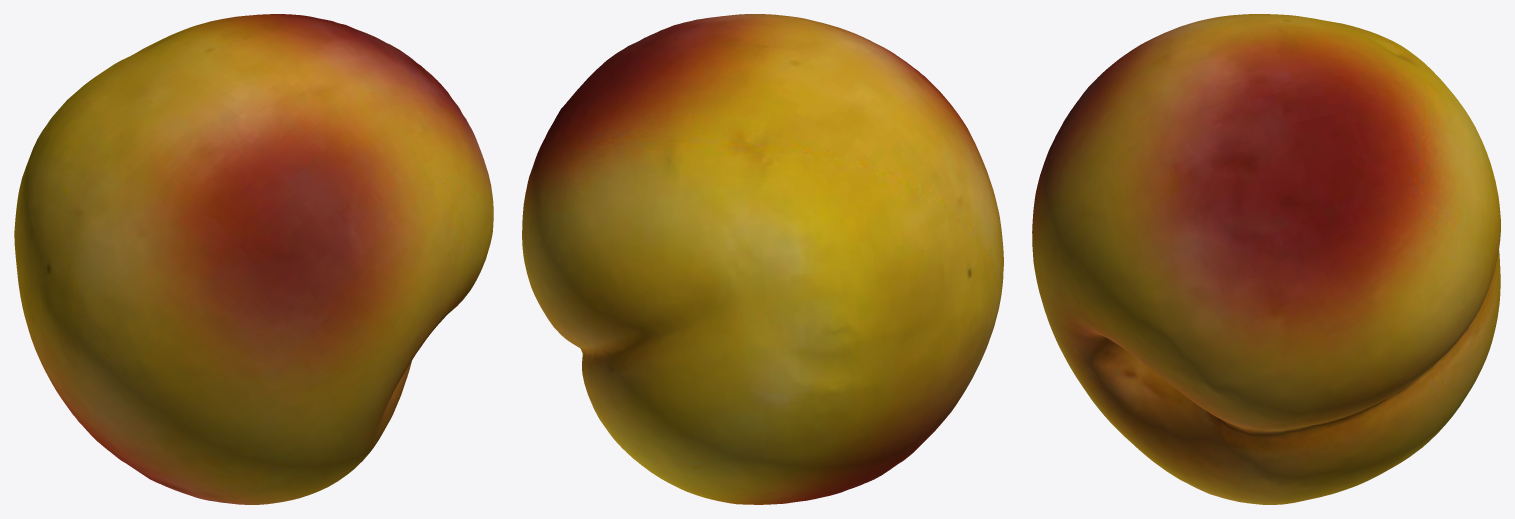
Rendered from ddg-ycb_015_peach.glb.
3 renders of one model, left to right at view 1: azimuth 30°, elevation 25°; view 2: azimuth 150°, elevation 25°; view 3: azimuth 270°, elevation 25°, orthographic. The views are drawn at different scales.
Visible parts, largest first — view 1: textured(Clone); view 2: textured(Clone); view 3: textured(Clone).
Part boxes in pixels (bbox=[...]): textured(Clone): bbox=[14, 14, 493, 504]; textured(Clone): bbox=[522, 14, 1003, 504]; textured(Clone): bbox=[1032, 14, 1500, 504].
Bounding box in the file's own units: 1.87 × 1.88 × 1.76.
1 material, 1 textured.
